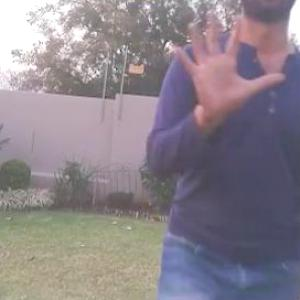follow_hand: (170, 7, 289, 118)
